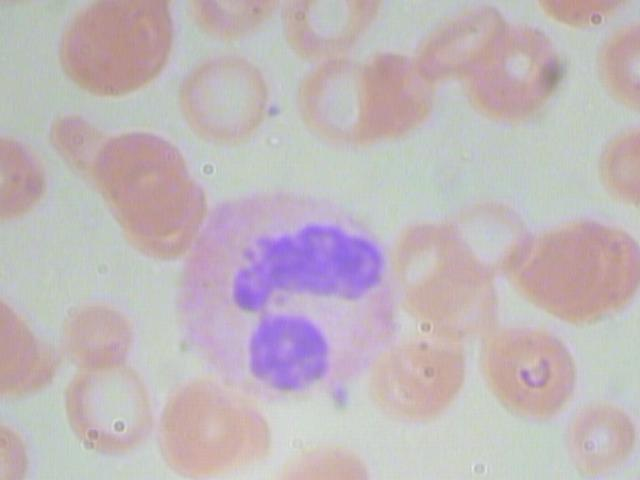RBC: (156, 380, 279, 480), (472, 315, 582, 423), (55, 1, 174, 99), (456, 21, 569, 116), (177, 48, 278, 147), (65, 355, 166, 454), (296, 50, 394, 148), (564, 395, 640, 480), (61, 295, 138, 363)
